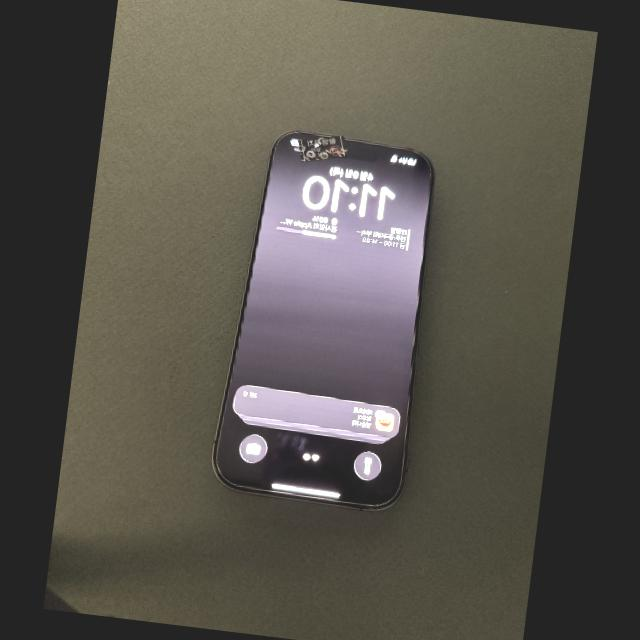phone: (212, 131, 433, 509)
sticker: (298, 135, 347, 161)
